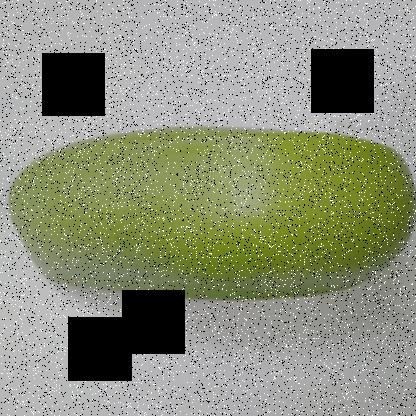freshunripe: (6, 110, 416, 313)
